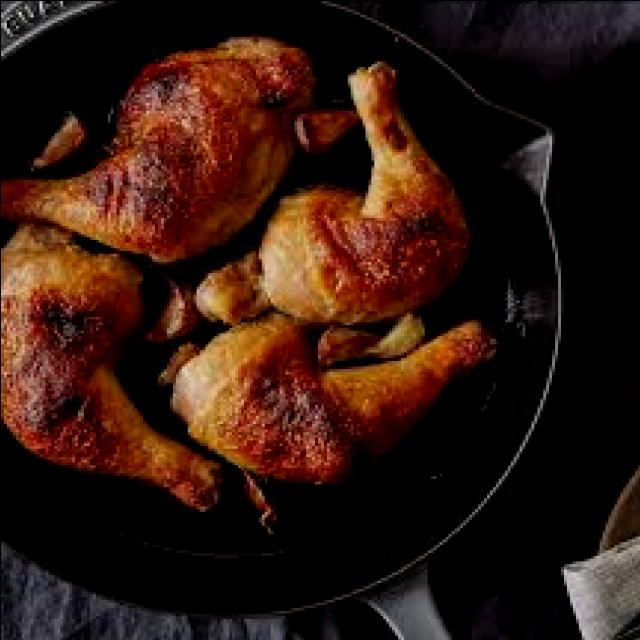ayam bakar: (0, 33, 317, 261), (0, 225, 219, 508), (169, 313, 498, 483), (258, 63, 471, 321)
